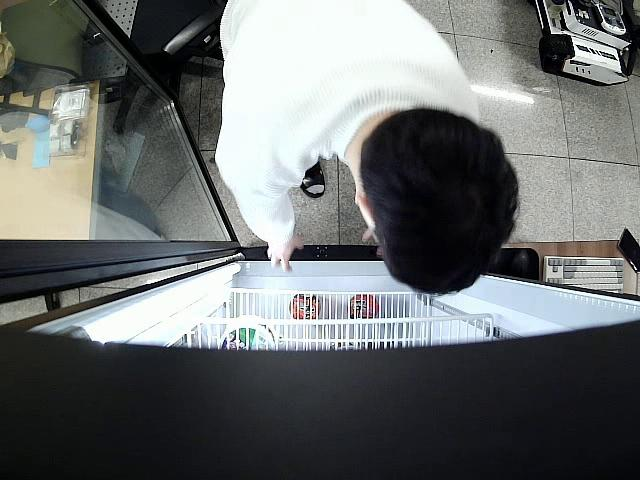00_hand: (266, 236, 307, 270)
